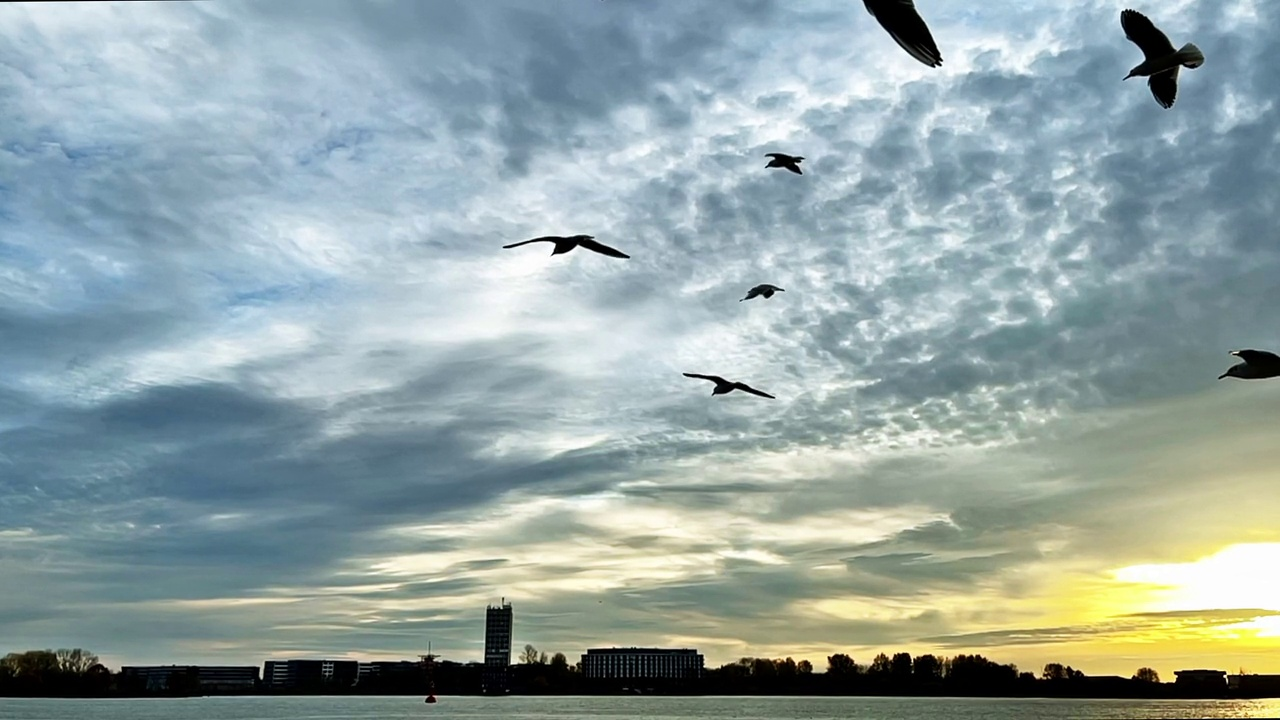bird: (1121, 9, 1205, 110), (862, 1, 942, 68), (501, 231, 626, 259), (682, 370, 774, 401), (1219, 349, 1279, 381), (765, 148, 804, 177), (739, 282, 783, 302)
